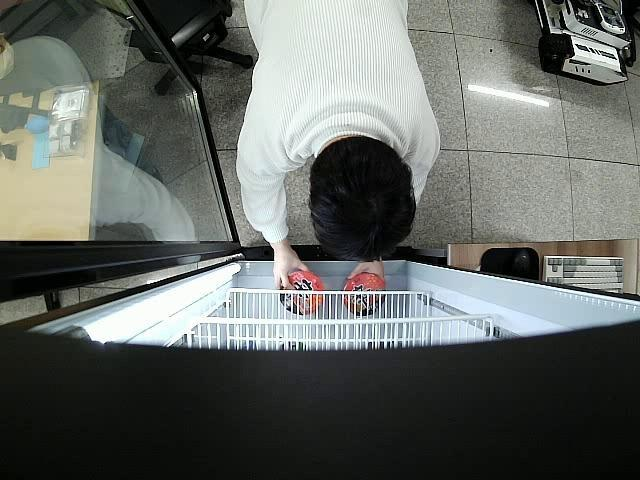01_ShinRamen_L: (280, 270, 326, 314), (342, 272, 387, 314)
